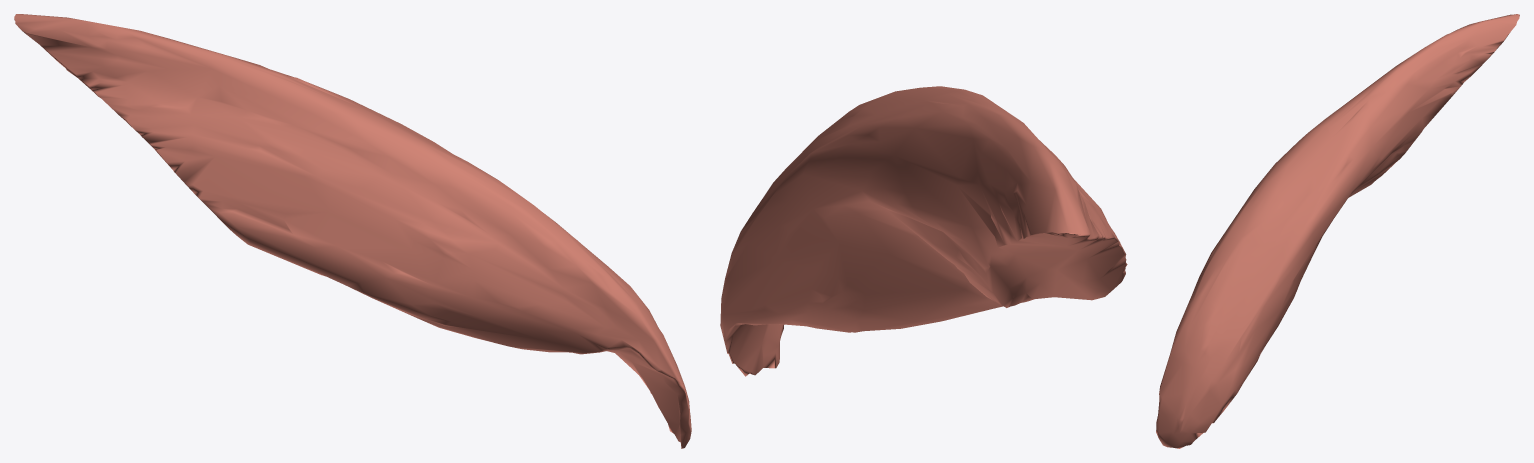
3 renders of one model, left to right at view 1: azimuth 30°, elevation 25°; view 2: azimuth 150°, elevation 25°; view 3: azimuth 270°, elevation 25°, orthographic. The views are drawn at different scales.
Parts seen in each view (by area): view 1: 左侧小圆肌; view 2: 左侧小圆肌; view 3: 左侧小圆肌.
Boxes of the visible parts, x1,y1,x2,y2 form: 左侧小圆肌: [14, 14, 691, 448]; 左侧小圆肌: [720, 86, 1127, 376]; 左侧小圆肌: [1156, 14, 1519, 448].
Bounding box in the file's own units: 0.1416 × 0.1118 × 0.1319.
